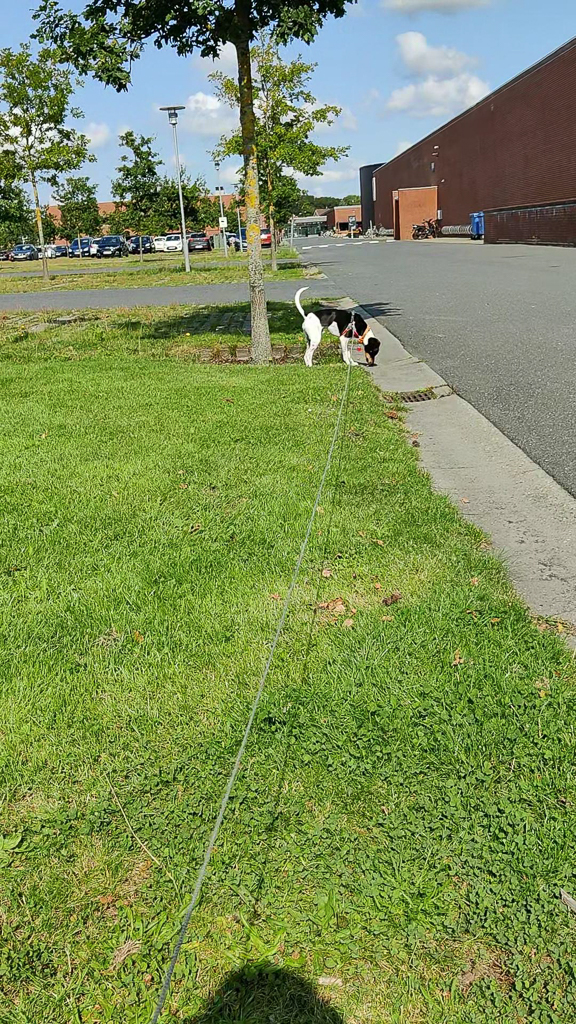Dog: (289, 281, 387, 372)
